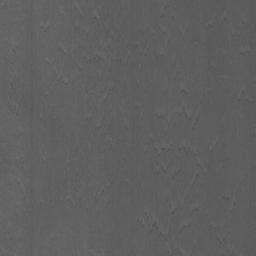Silk spot: (84, 54, 101, 64), (178, 147, 196, 156)
